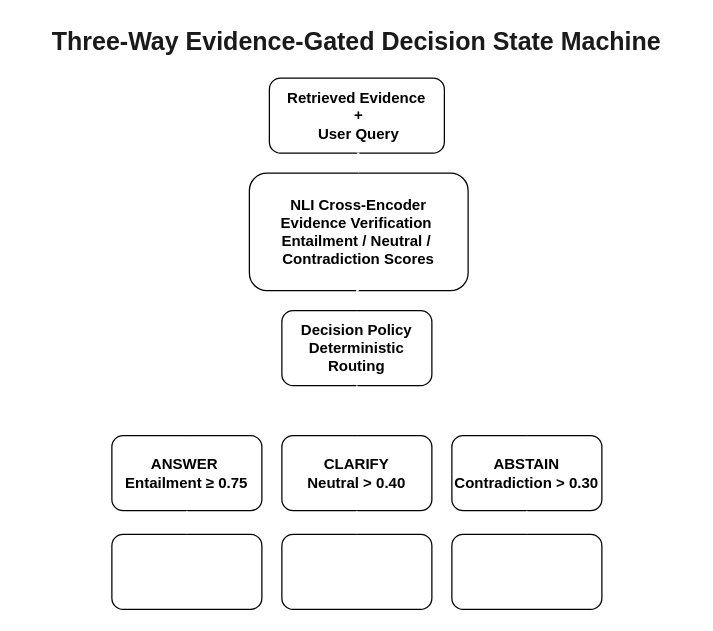
Image size: 713x631. Some labels were removed from this diagram. The shapes that lost their labels are listed below. From the top down, each one's box as (x1, y1, x2, y2) in pixels, then its label:
(111, 533, 262, 609): Render Grounded Response
(281, 533, 432, 609): Ask Clarifying Question
(451, 533, 602, 609): Safe Abstention
